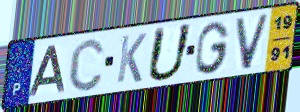A: (26, 44, 67, 98)
C: (67, 36, 106, 94)
G: (194, 19, 232, 76)
K: (115, 31, 148, 85)
U: (144, 22, 195, 84)
V: (234, 12, 271, 72)
